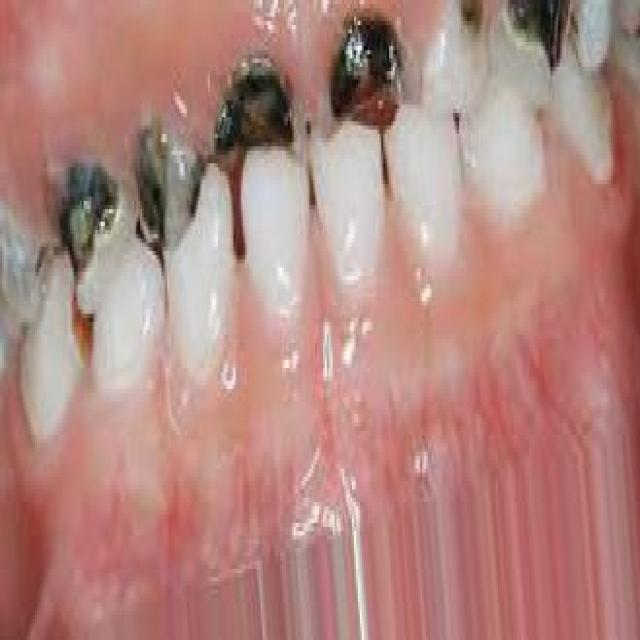caries: (216, 36, 301, 176), (325, 0, 410, 131), (51, 143, 122, 291), (128, 113, 199, 248), (503, 3, 586, 76), (63, 289, 106, 379), (452, 0, 498, 45)
